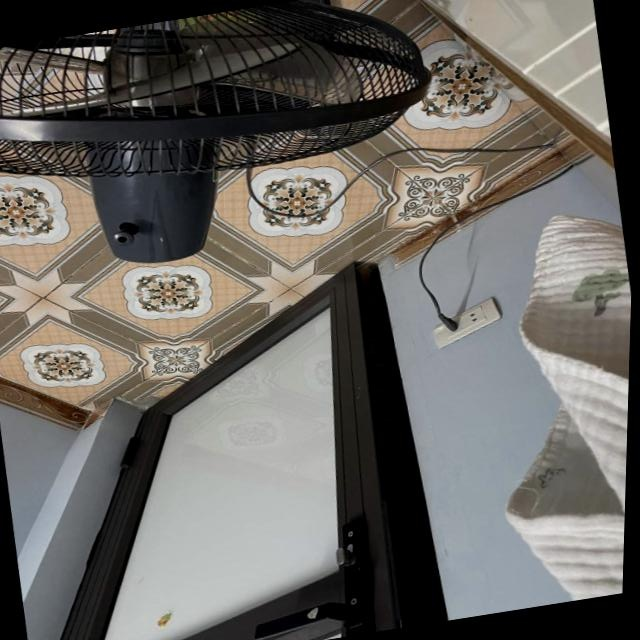outlet: (428, 294, 507, 350)
